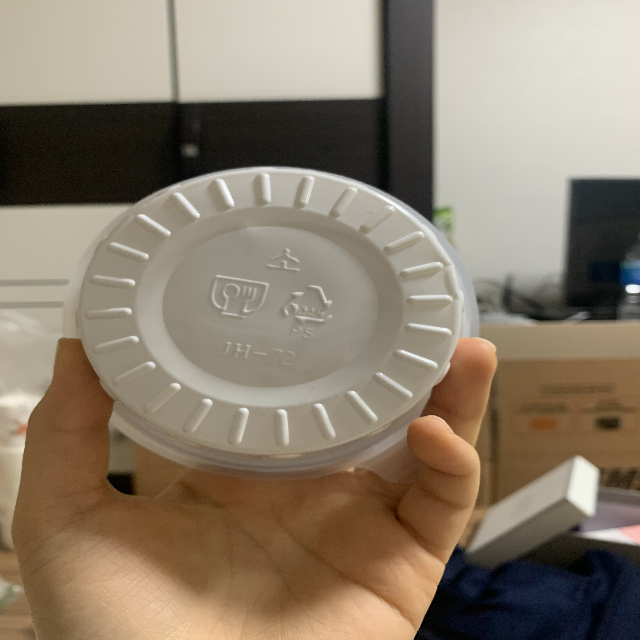ps: (280, 281, 334, 338)
